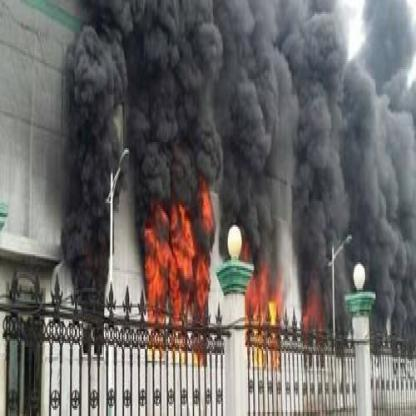fire: (144, 225, 166, 311), (170, 209, 192, 276), (168, 247, 186, 316), (246, 277, 266, 318), (194, 250, 208, 304), (200, 185, 214, 231), (268, 298, 280, 320)
